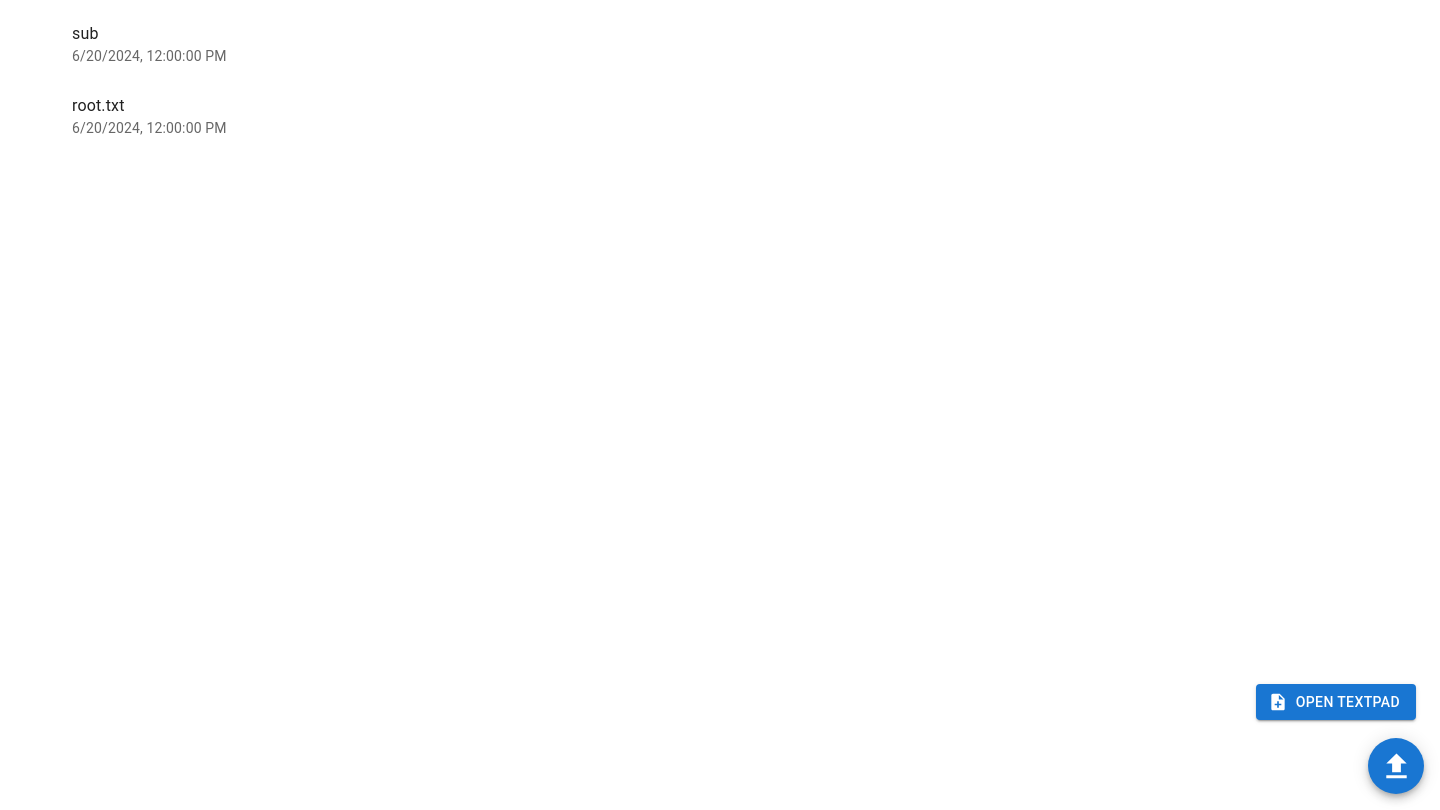
drops a stale directory listing when navigation outruns the network
This screenshot has width=1440, height=810.
Expected: the text "root.txt" is shown, [72, 96, 125, 115]
# 进入 sub（第二次 PROPFIND，在途），随即返回根目录（第三次 PROPFIND）
Step 1. Click the text "sub" → (85, 34), box [72, 24, 98, 43]
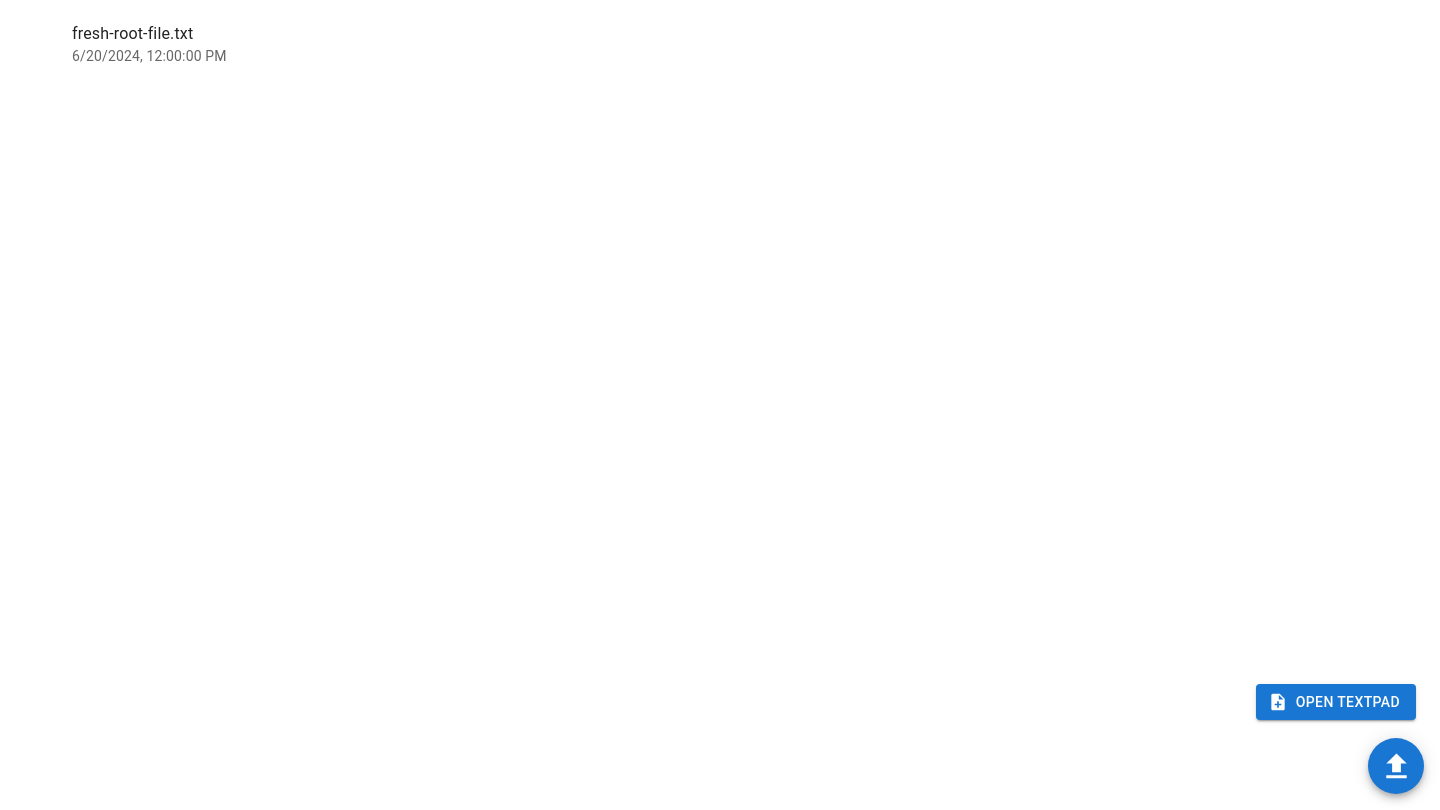
Result: the text "fresh-root-file.txt" is shown at [72, 24, 193, 43]
